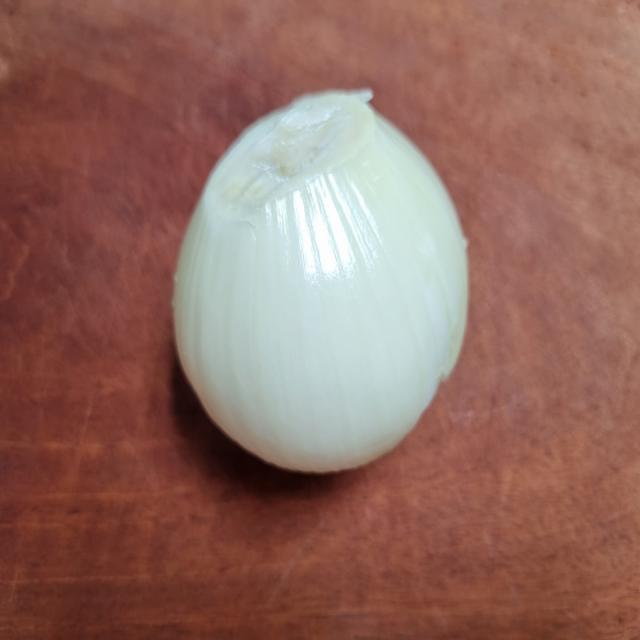onion: (167, 81, 475, 481)
